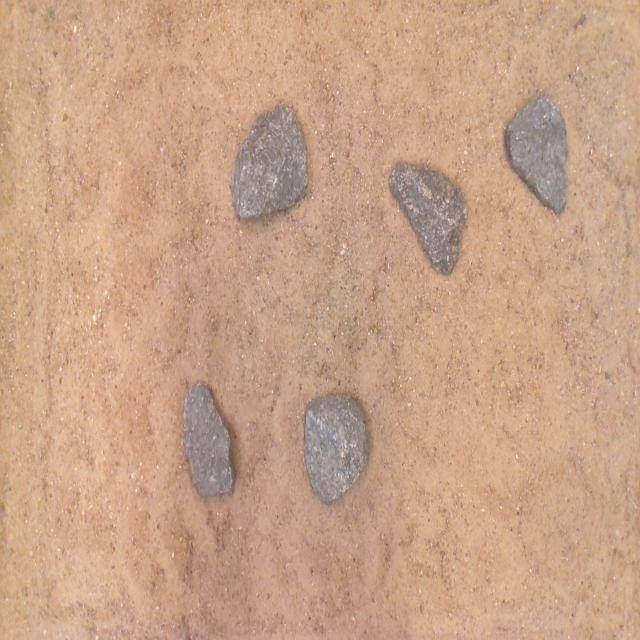rock: (389, 163, 467, 275), (231, 107, 308, 217), (505, 97, 567, 213), (304, 395, 368, 501), (184, 383, 234, 495)
